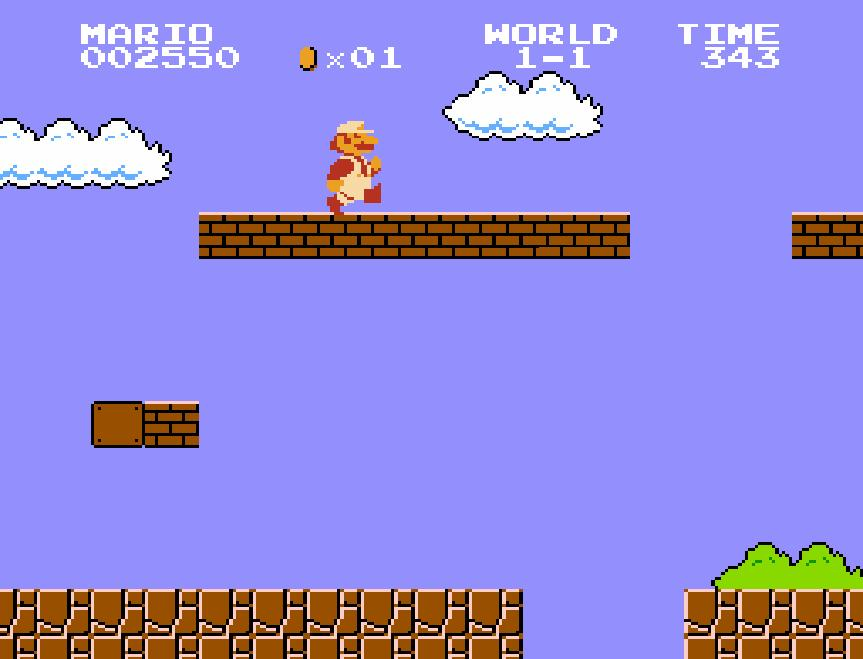fire_mario: (324, 118, 382, 216)
